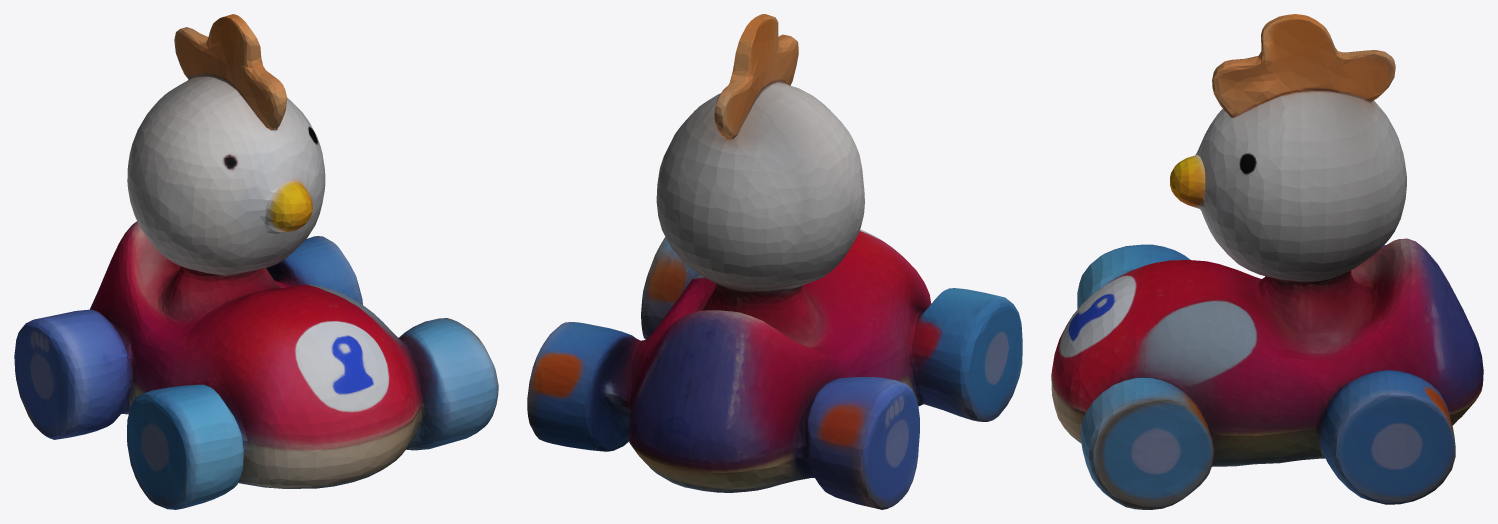
The model's file is animalcarFive.glb.
The picture shows the model from 3 angles, left to right: view 1: azimuth 30°, elevation 25°; view 2: azimuth 150°, elevation 25°; view 3: azimuth 270°, elevation 25°; orthographic projection. The views are drawn at different scales.
Parts seen in each view (by area): view 1: world; view 2: world; view 3: world.
Boxes of the visible parts, bbox=[...] form: world: bbox=[14, 14, 498, 509]; world: bbox=[527, 14, 1022, 509]; world: bbox=[1051, 14, 1483, 509].
Bounding box in the file's own units: 0.5544 × 0.646 × 0.6052.
Materials: 1 (1 with a texture image).
